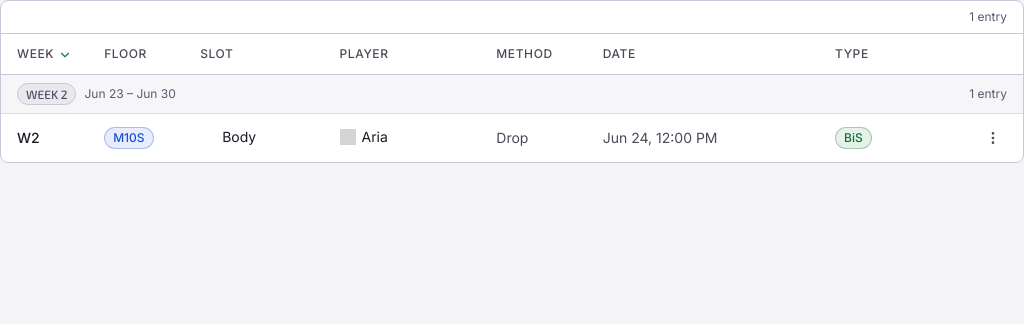
Test: LootHistoryTable › kebab › hides Edit and Delete but keeps Copy link when canEdit is false
The width and height of the screenshot is (1024, 324).
Click the button named "entry actions".
click(993, 138)  # box [979,124,1007,152]
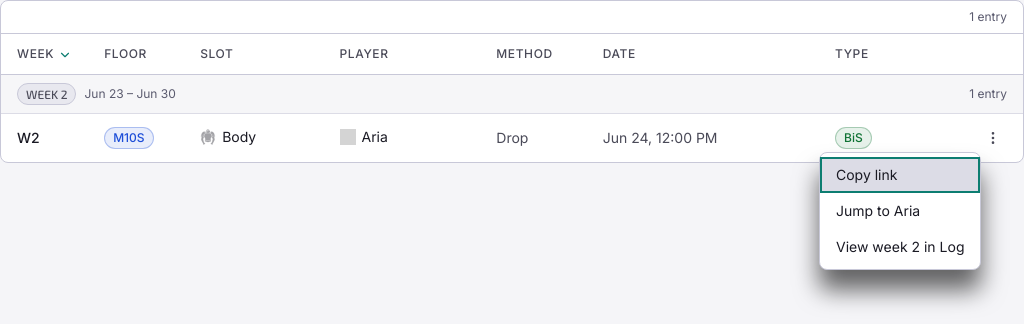
Expected: the menu item "Copy link" is shown, [820,157,980,193]
